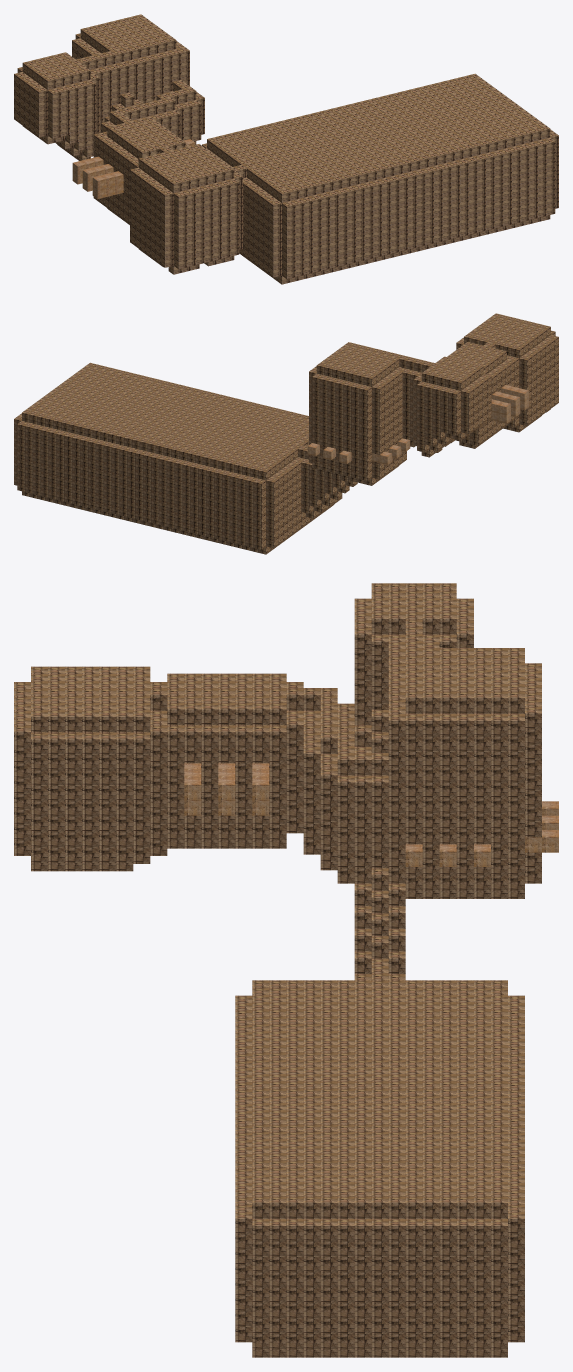
Rendered from map2_test.fbx.
3 renders of one model, top to bottom at view 1: azimuth 30°, elevation 25°; view 2: azimuth 150°, elevation 25°; view 3: azimuth 270°, elevation 25°, orthographic. The views are drawn at different scales.
Visible parts, largest first — view 1: Temple, PushWall.001, PushWall.003, PushWall.005; view 2: Temple, PushWall.005, PushWall.003, PushWall.001, DeathFloor.002; view 3: Temple, DeathFloor.002, PushWall.002, PushWall, PushWall.004.
Part boxes in pixels (x1,y1,x2,y2): Temple: (14,14,558,284); PushWall.001: (92,171,123,198); PushWall.003: (82,164,113,191); PushWall.005: (72,156,103,184); Temple: (14,313,558,554); PushWall.005: (489,399,510,423); PushWall.003: (492,391,520,416); PushWall.001: (501,385,529,410); DeathFloor.002: (316,465,399,485); Temple: (14,583,541,1357); DeathFloor.002: (405,890,524,898); PushWall.002: (218,763,235,815); PushWall: (184,763,201,815); PushWall.004: (252,763,269,815).
Bounding box in the file's own units: 11200 × 5000 × 6400.
